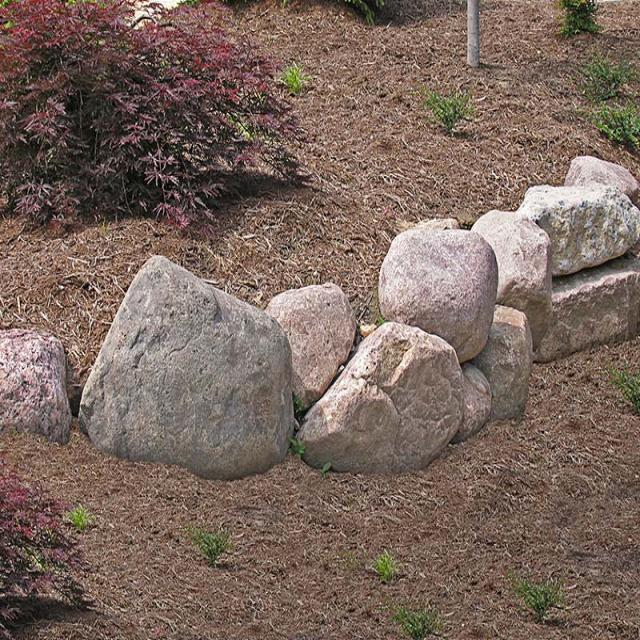red-sand: (0, 0, 639, 411), (0, 339, 639, 639)
stone: (78, 256, 294, 479), (297, 322, 465, 471), (517, 182, 639, 361), (378, 219, 498, 363), (265, 283, 356, 420), (471, 210, 551, 355), (451, 305, 532, 442), (0, 329, 71, 443), (565, 156, 639, 208)
